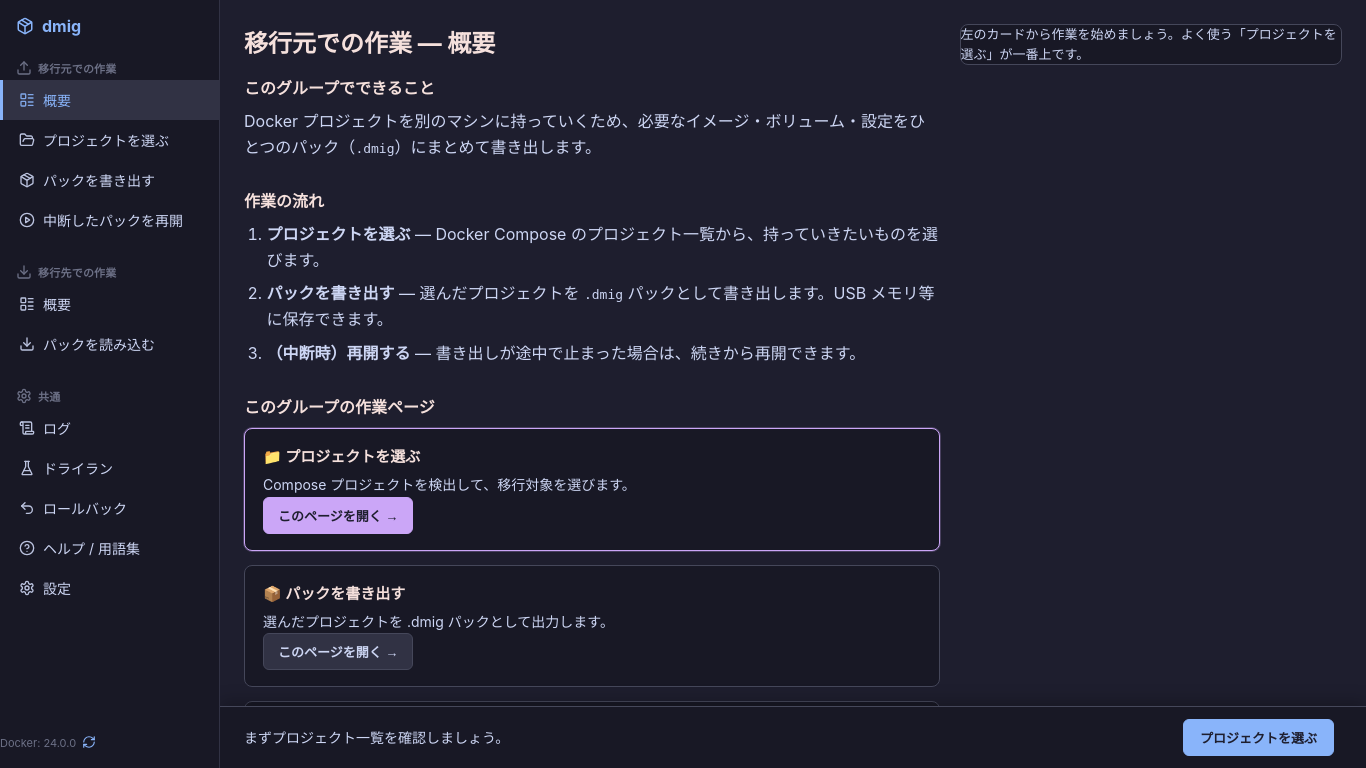
Test: App integration › サイドバーから設定ページへ遷移できる
Expected: the heading "移行元での作業 — 概要" is shown, 244,29 -> 495,58
Click the button "設定".
click(45, 588)  # box 19,580 -> 71,597
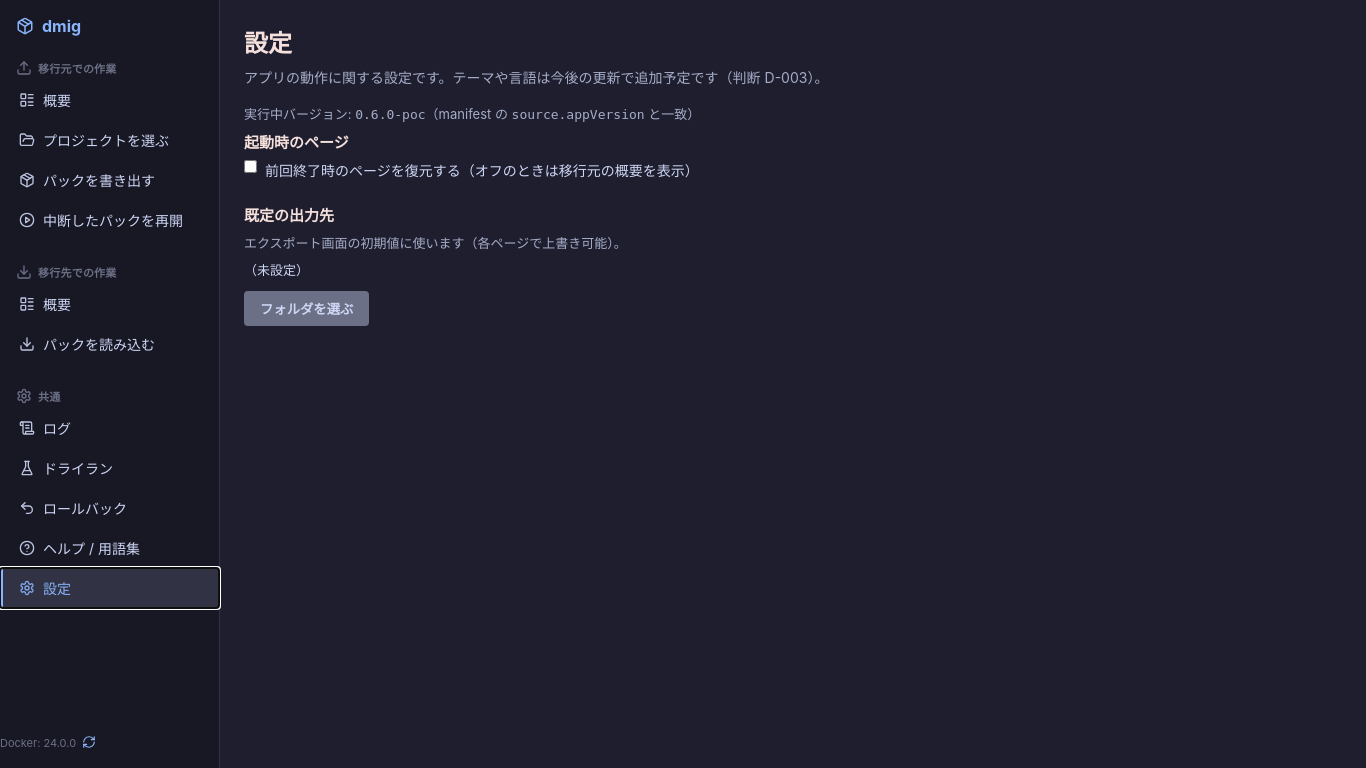
Now the heading "設定" is shown, box 244,29 -> 292,58
